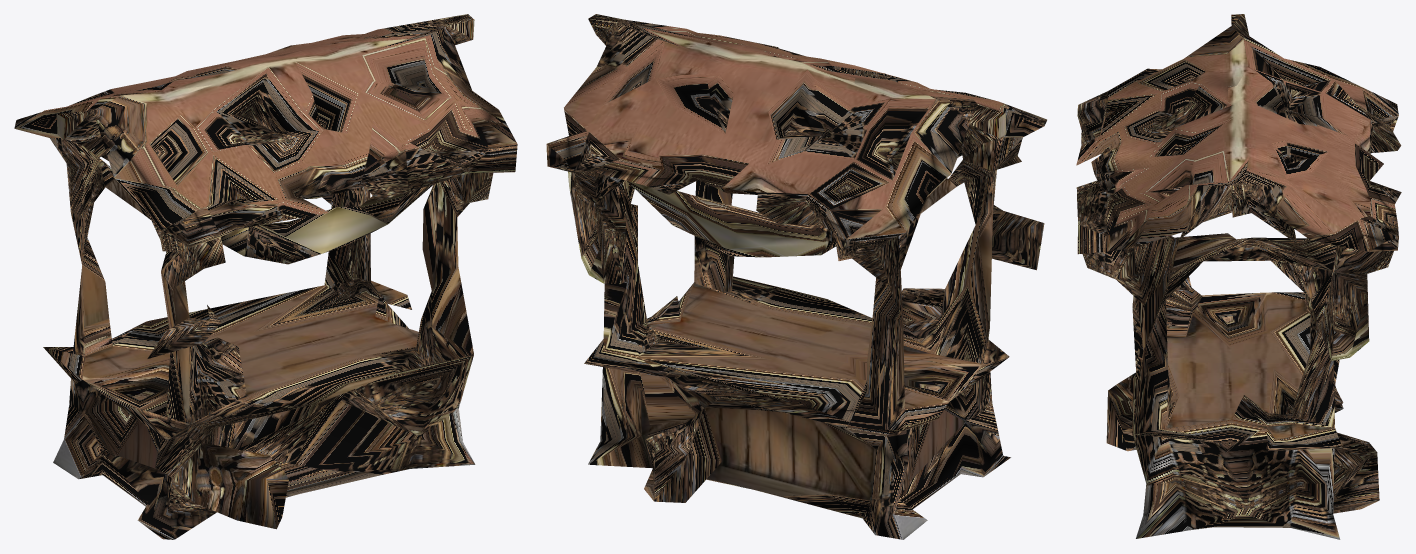
File: meshy_stall_open_roof_lod1.glb
3 views of the same model, side by side, from view 1: azimuth 30°, elevation 25°; view 2: azimuth 150°, elevation 25°; view 3: azimuth 270°, elevation 25° (orthographic). The views are drawn at different scales.
Bounding box in the file's own units: 3.15 × 2.92 × 2.34.
Materials: 1 (1 with a texture image).
